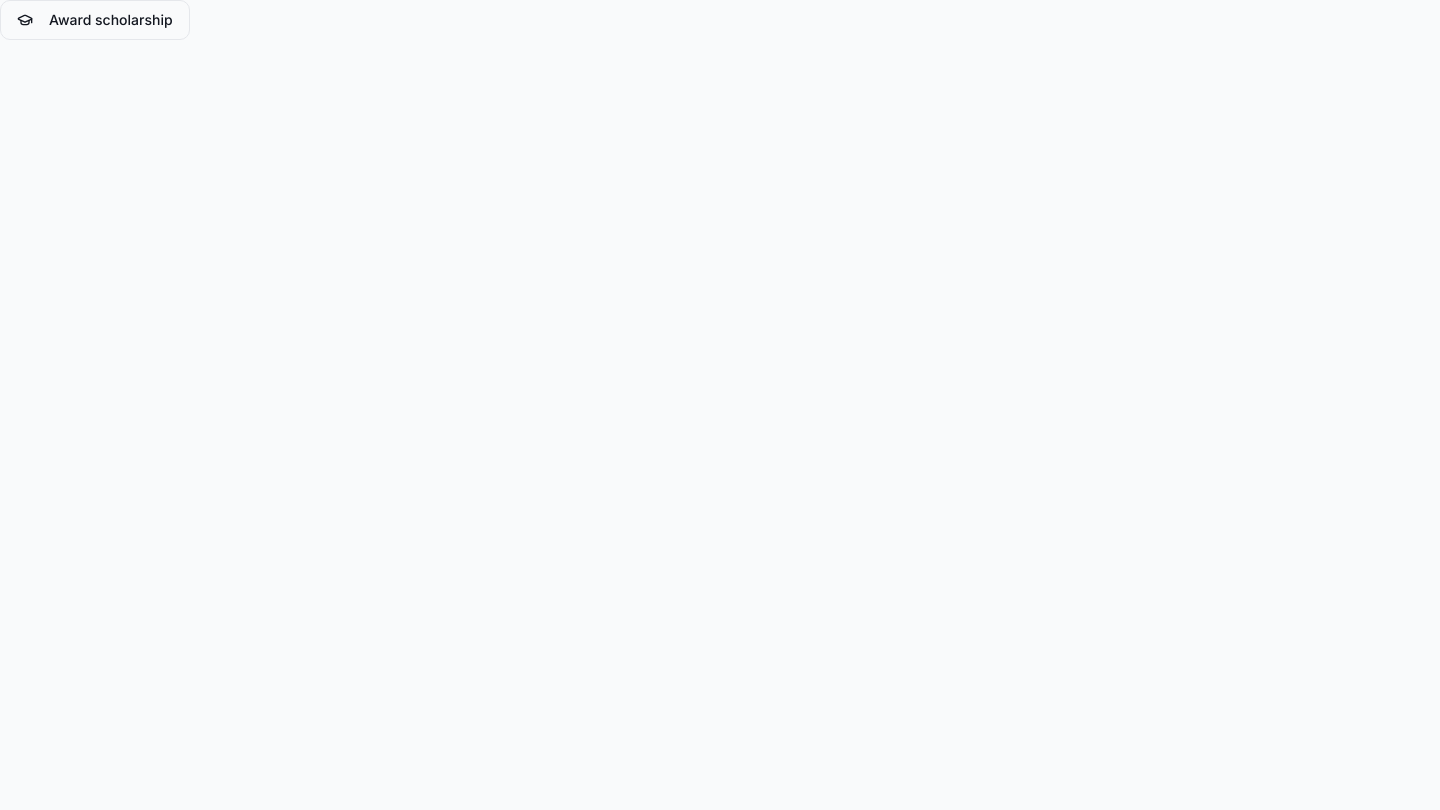
ScholarshipAction › awards against the balance with a reason
Later steps or results of the test are not shown.
Click the button "Award scholarship" at (95, 20), box [0,0,190,40]
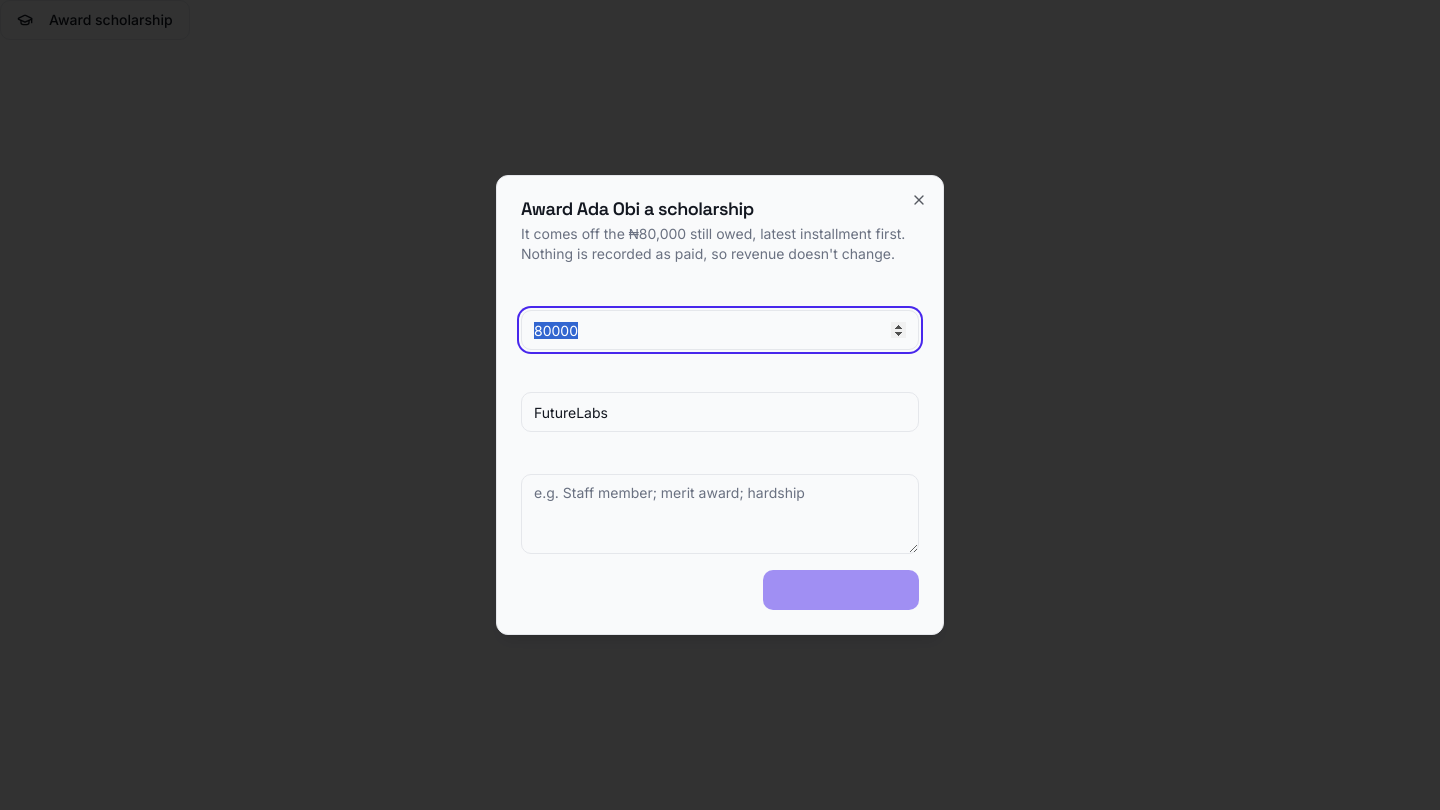
Check: the number field labelled "Amount (₦)" holds "80000", box [521,310,919,350]
Check: the button "Award scholarship" is disabled, box [763,570,919,610]
